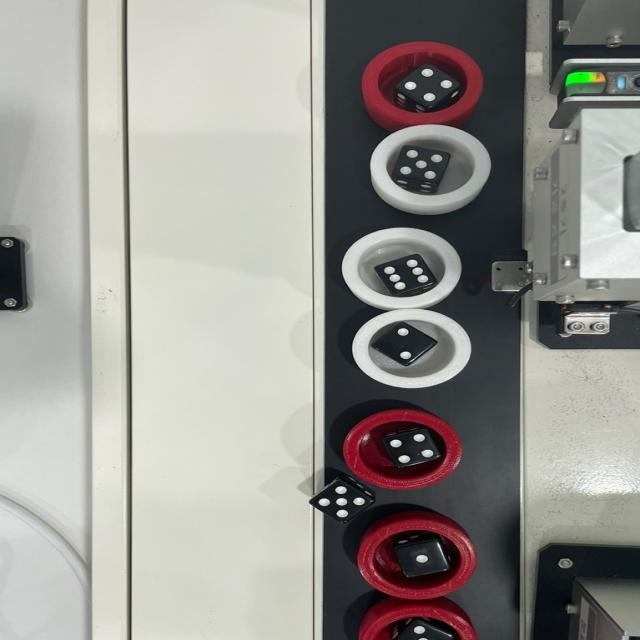DICE1: (402, 546, 443, 572)
DICE2: (386, 330, 426, 360)
DICE3: (404, 624, 445, 640)
DICE4: (387, 430, 440, 468), (403, 68, 456, 102)
DICE5: (317, 482, 366, 517), (400, 145, 446, 181)
DICE6: (381, 259, 439, 292)
RedChip: (356, 518, 478, 595), (342, 410, 460, 486), (364, 40, 476, 120), (359, 605, 470, 640)
WhiteChip: (368, 122, 492, 207), (353, 309, 475, 386), (339, 226, 457, 305)
